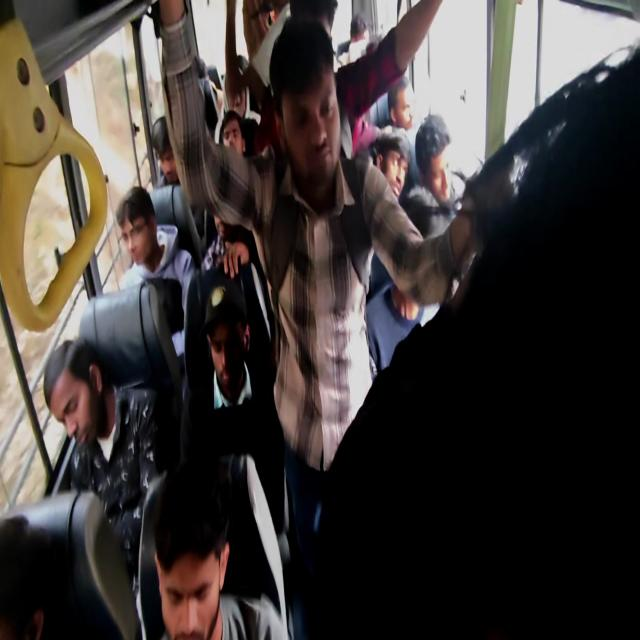person: (354, 197, 640, 640), (165, 519, 256, 610), (271, 44, 326, 176), (376, 120, 425, 256), (177, 302, 232, 406), (159, 108, 213, 207), (114, 178, 176, 259), (56, 322, 100, 435), (374, 69, 429, 145), (206, 211, 263, 272), (421, 126, 455, 214), (214, 120, 252, 173), (344, 0, 371, 61), (193, 62, 228, 94), (225, 68, 246, 99)
